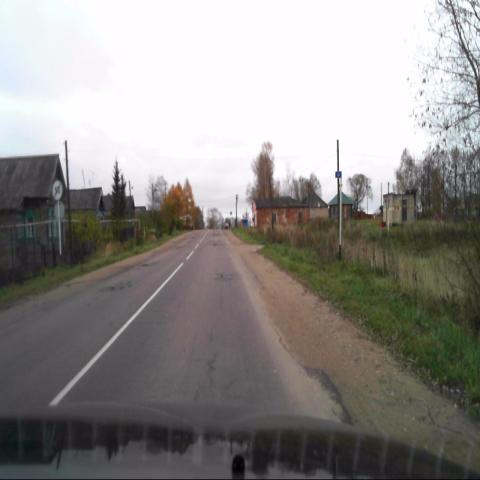3_25: (53, 180, 63, 199)
